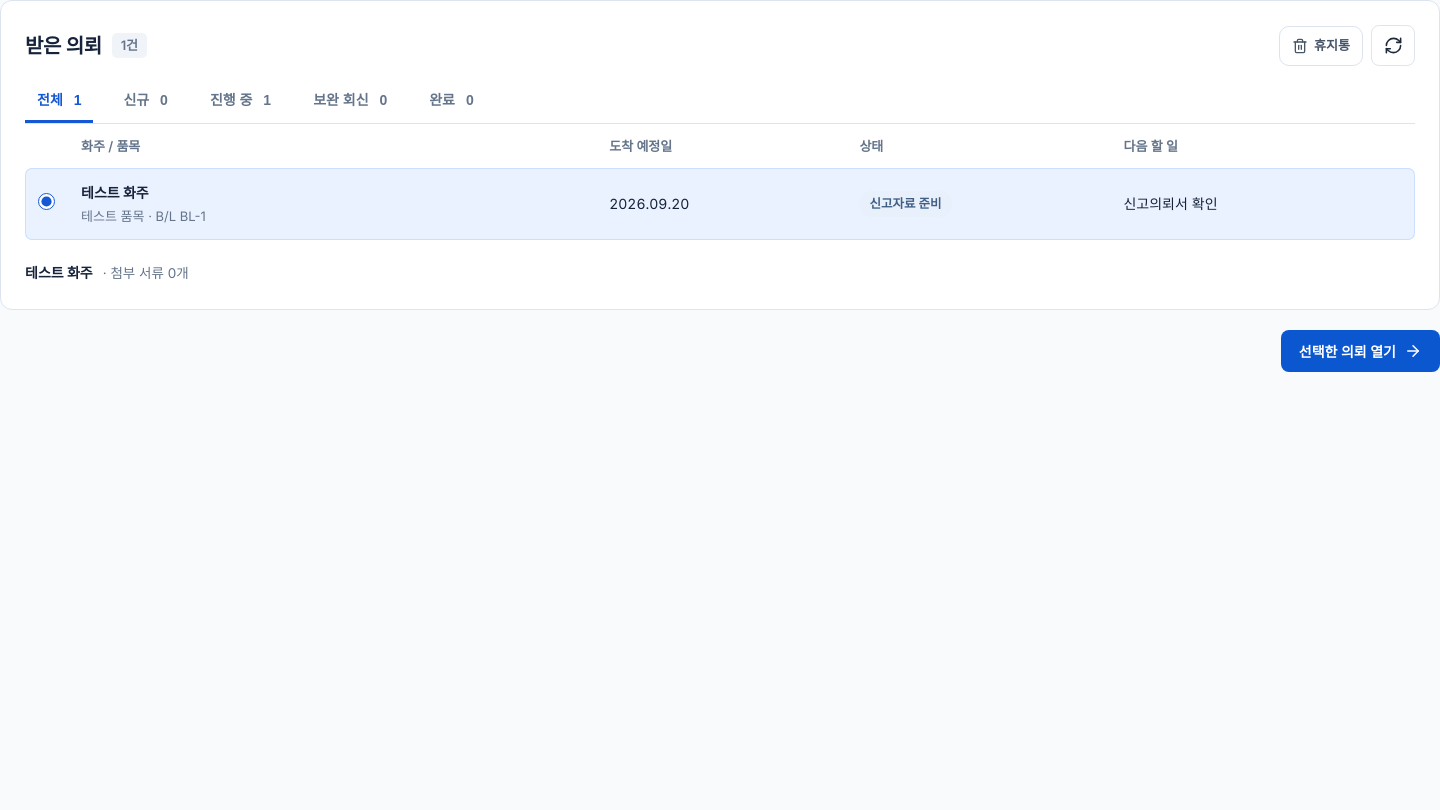
Test: forwarder task tabs › orders cargo lookup and arrival notice without a D/O card, with document-only completion
Click the button "선택한 의뢰 열기": x=1360, y=351 [1281,330,1439,372]
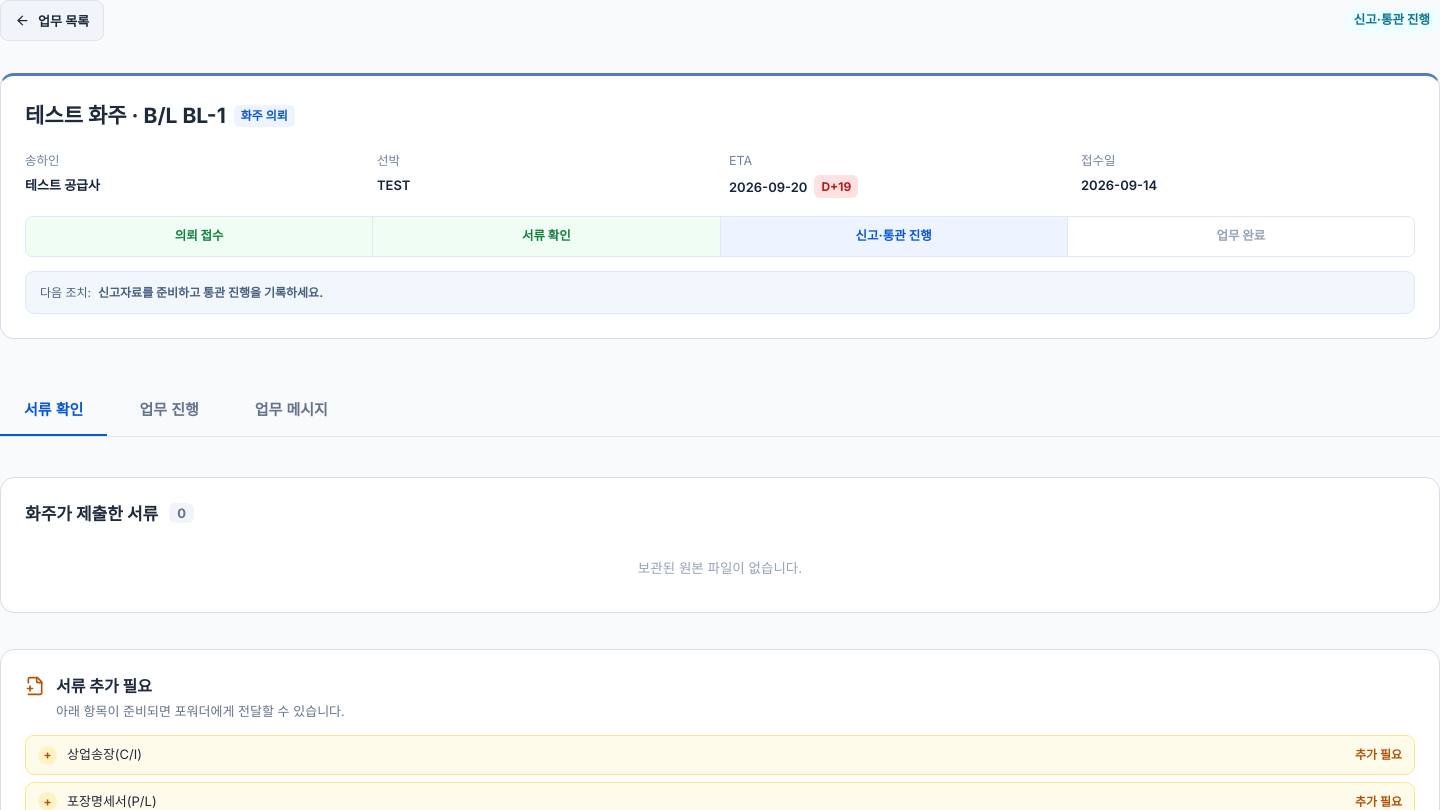
Click the button "업무 진행": x=169, y=410 [115,383,223,436]
(page scrolled)
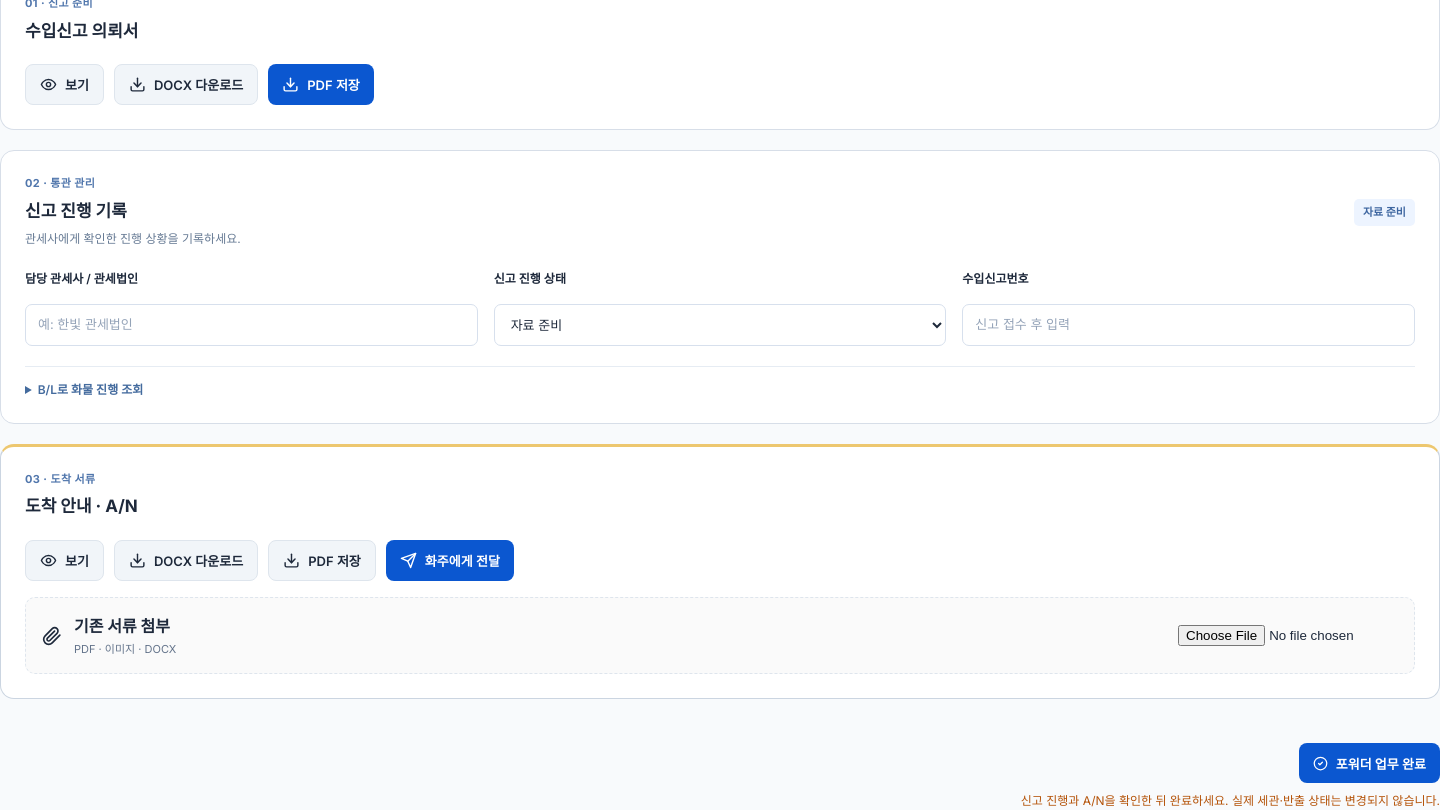
Expected: the text "수입신고 의뢰서" is shown, [25,19,138,44]
Expected: the button "DOCX 다운로드" below "도착 안내 · A/N" is enabled, [114,540,258,581]
Expected: the button "PDF 저장" below "도착 안내 · A/N" is enabled, [268,540,376,581]
